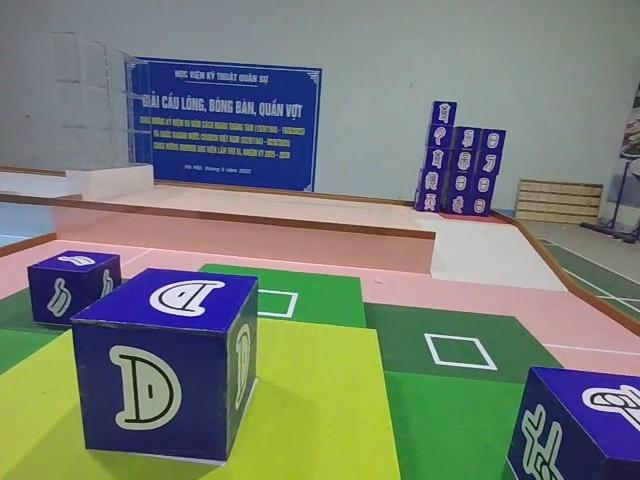R2 Real Blue: (76, 259, 266, 463), (505, 370, 639, 480), (27, 250, 123, 330)
